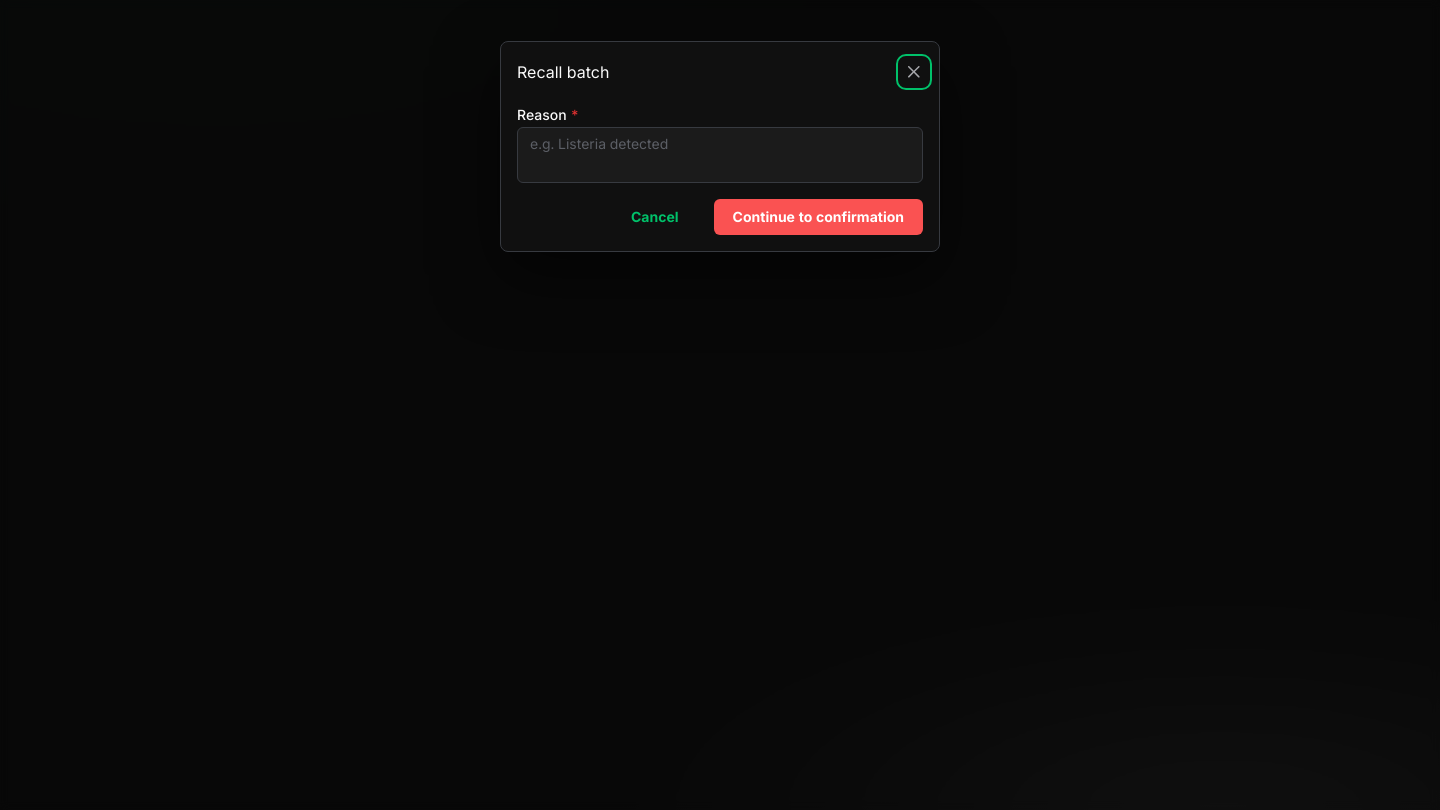
RecallModal › validation: empty reason shows inline error
The image size is (1440, 810).
Expected: the dialog is shown, [500, 40, 940, 252]
Click the button "Continue to confirmation" at (818, 217), box [714, 199, 923, 235]
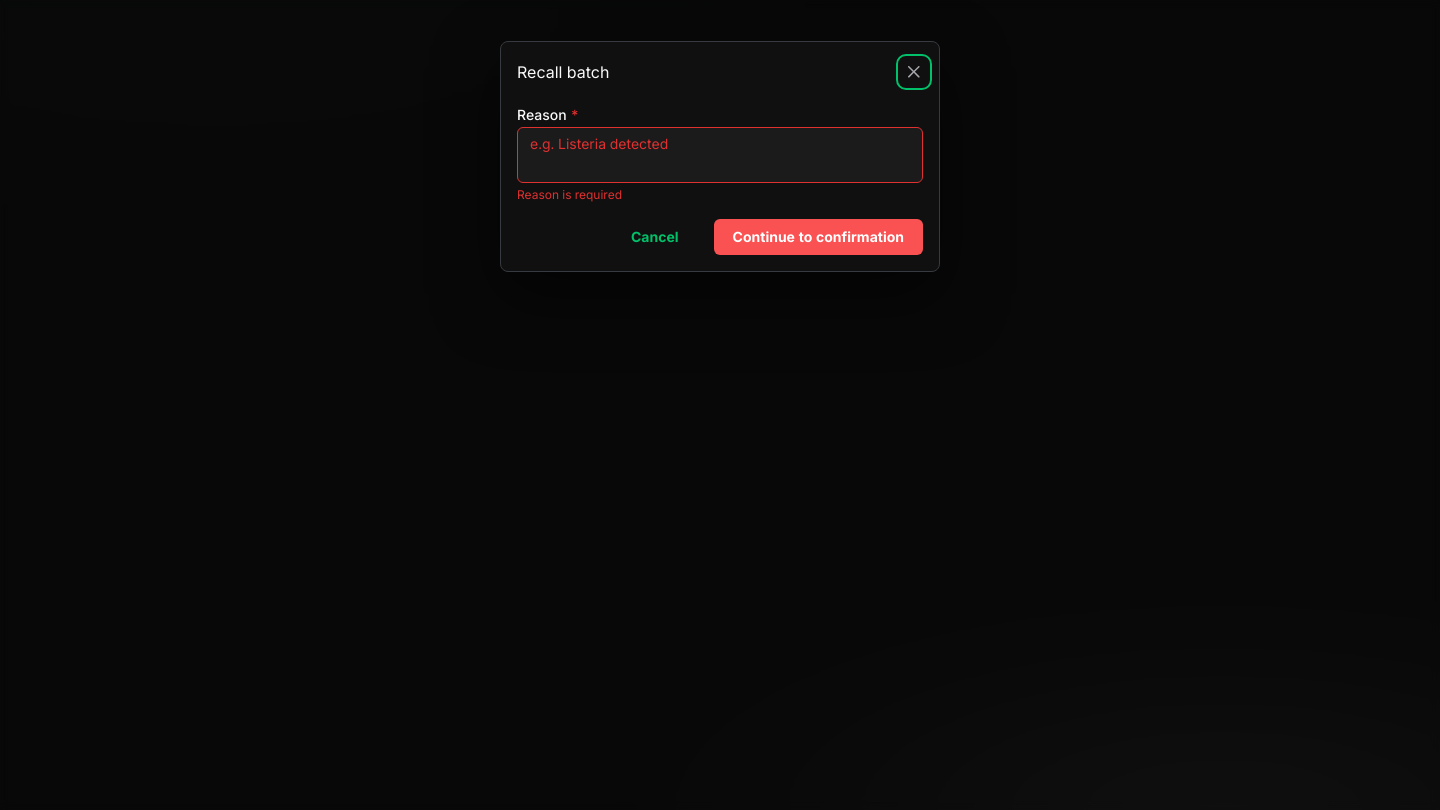
Expected: the text "Reason is required" is shown, [517, 187, 622, 202]
